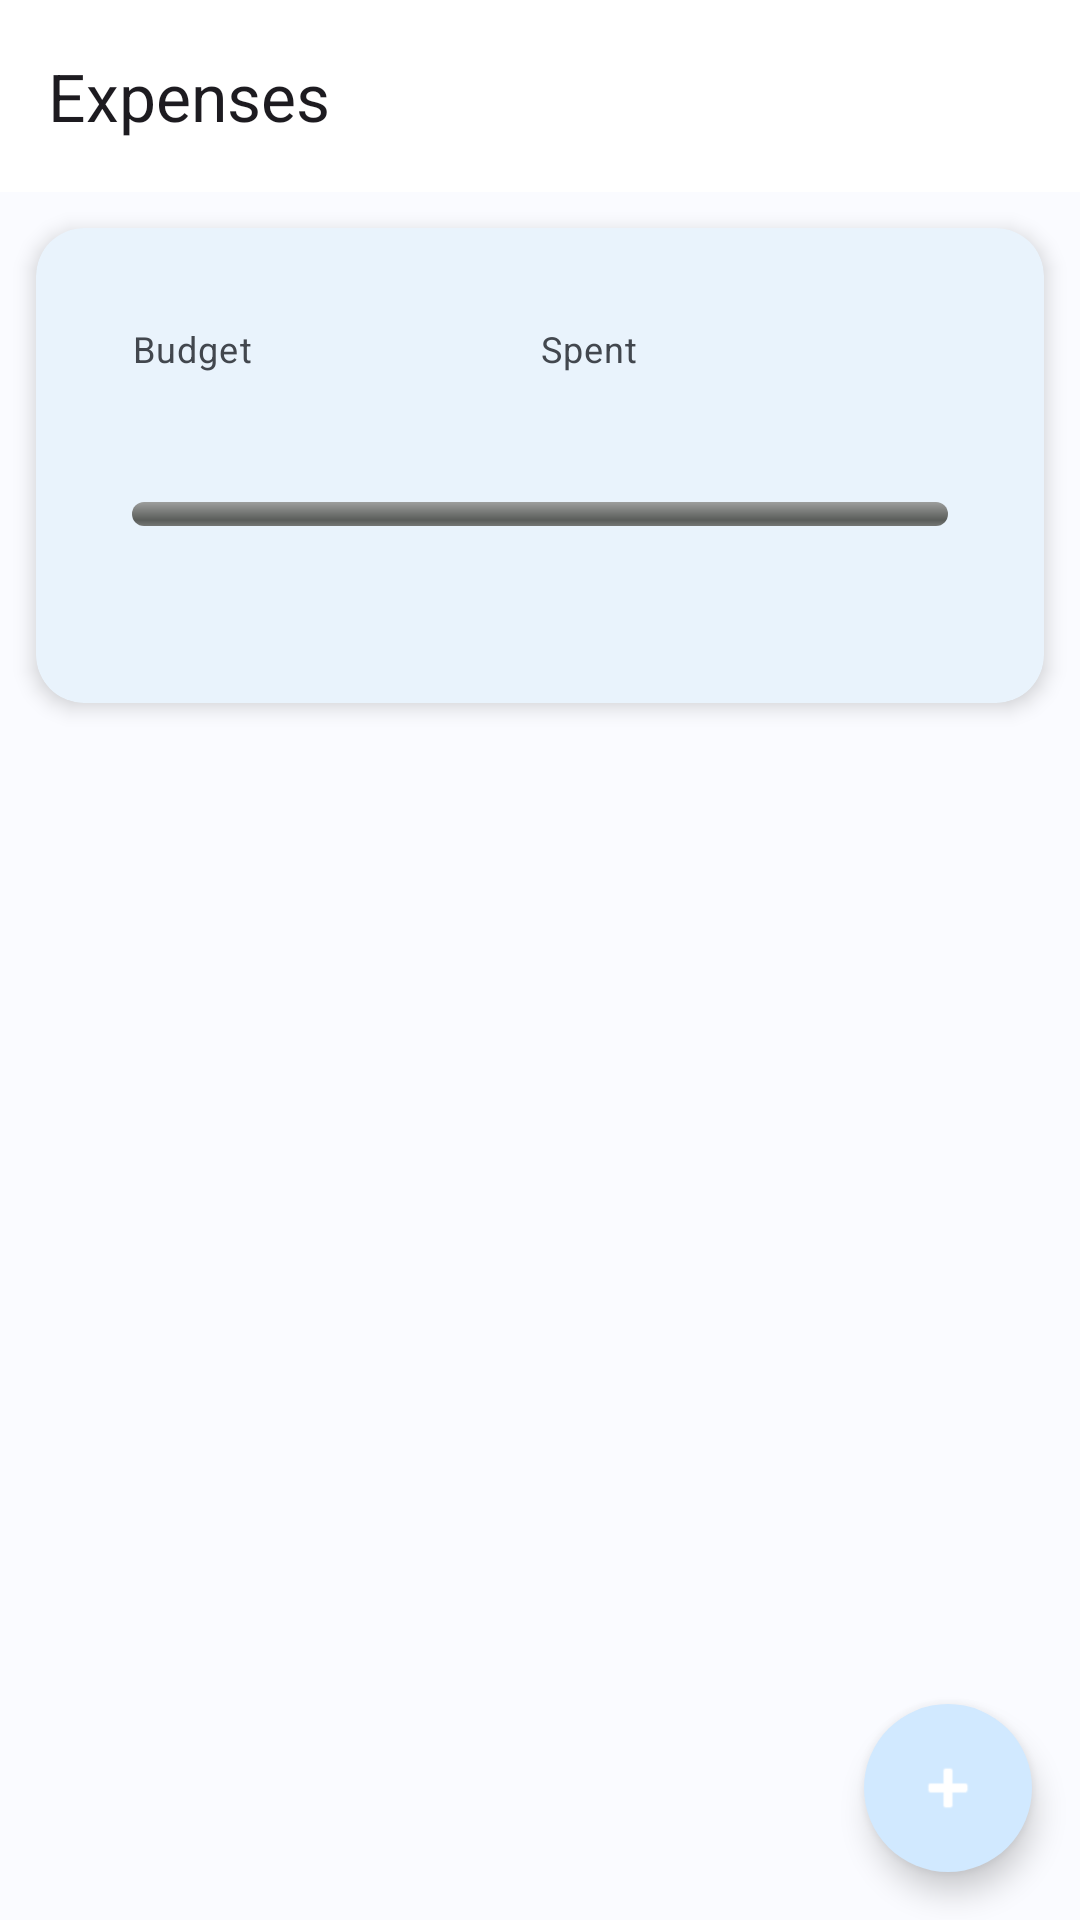

Where to tap for icons on this 1080 × 1920 app screen, as (x,y):
Add Expense: (948,1788)
